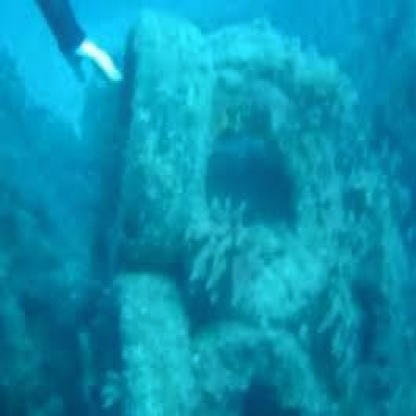tire: (195, 24, 384, 318), (127, 22, 207, 291)
